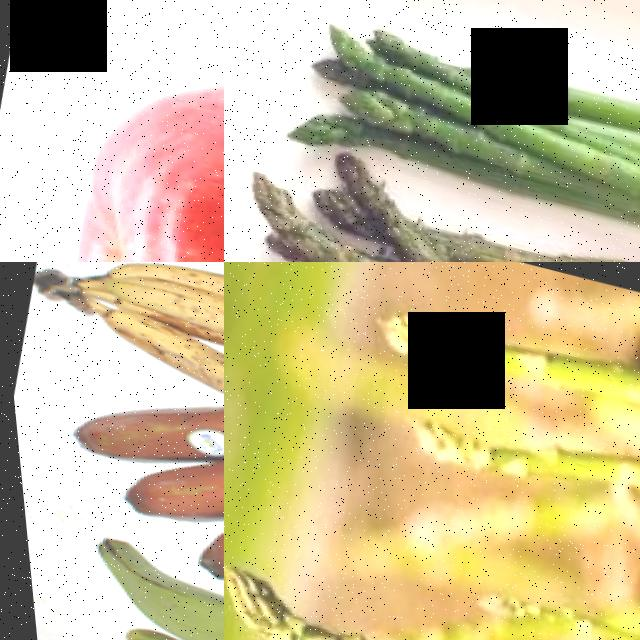apple: (0, 28, 224, 262)
asparagus: (242, 0, 640, 262), (341, 262, 640, 460), (224, 513, 640, 640), (376, 365, 640, 545)
banana: (12, 330, 224, 614), (24, 262, 224, 421), (53, 538, 224, 640)
